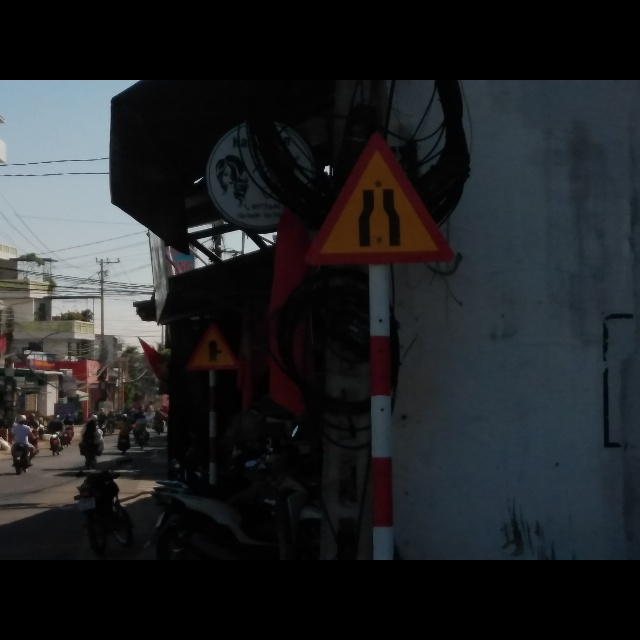Giao nhau với đường không ưu tiên: (185, 319, 243, 372)
Đường bị hẹp cả hai bên: (305, 146, 454, 270)
